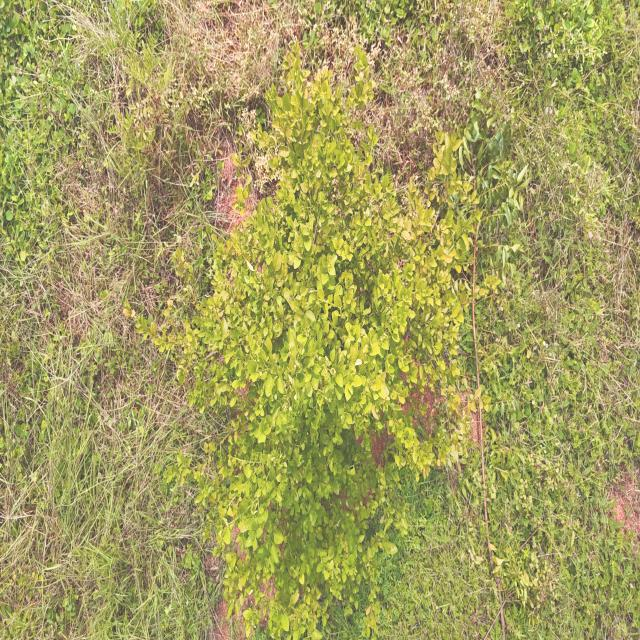notMangoTree: (144, 29, 486, 640)
